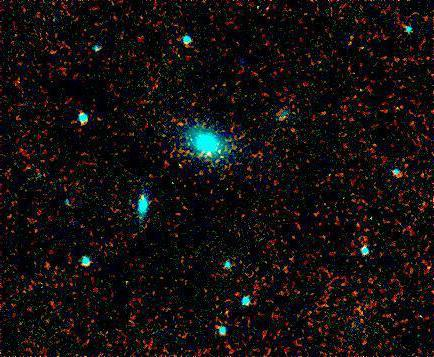star: (160, 113, 190, 143)
